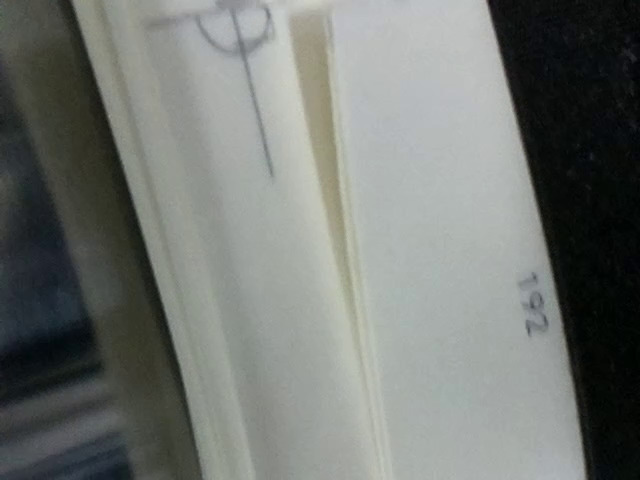not_sure: (146, 2, 279, 66)
